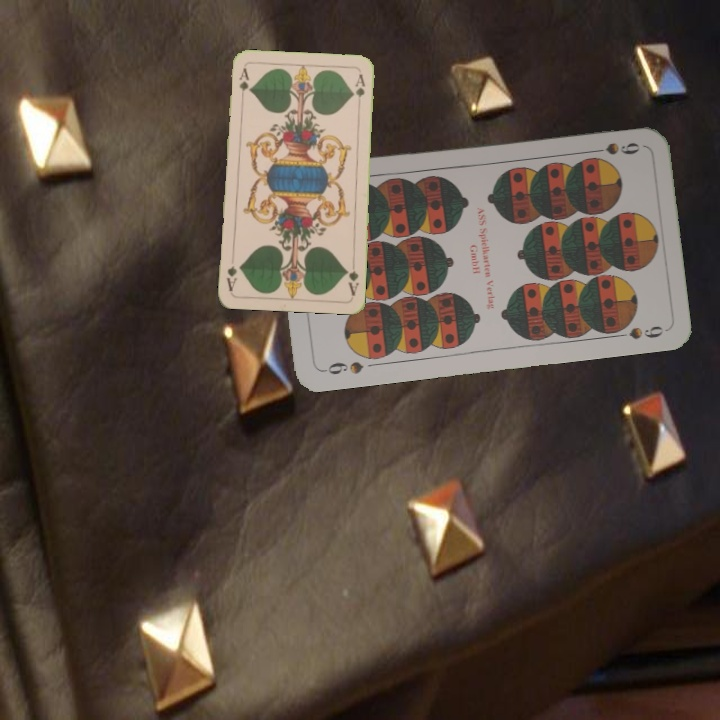GA: (342, 266, 362, 298), (235, 64, 250, 104)
S9: (585, 138, 642, 158), (318, 357, 366, 378)
